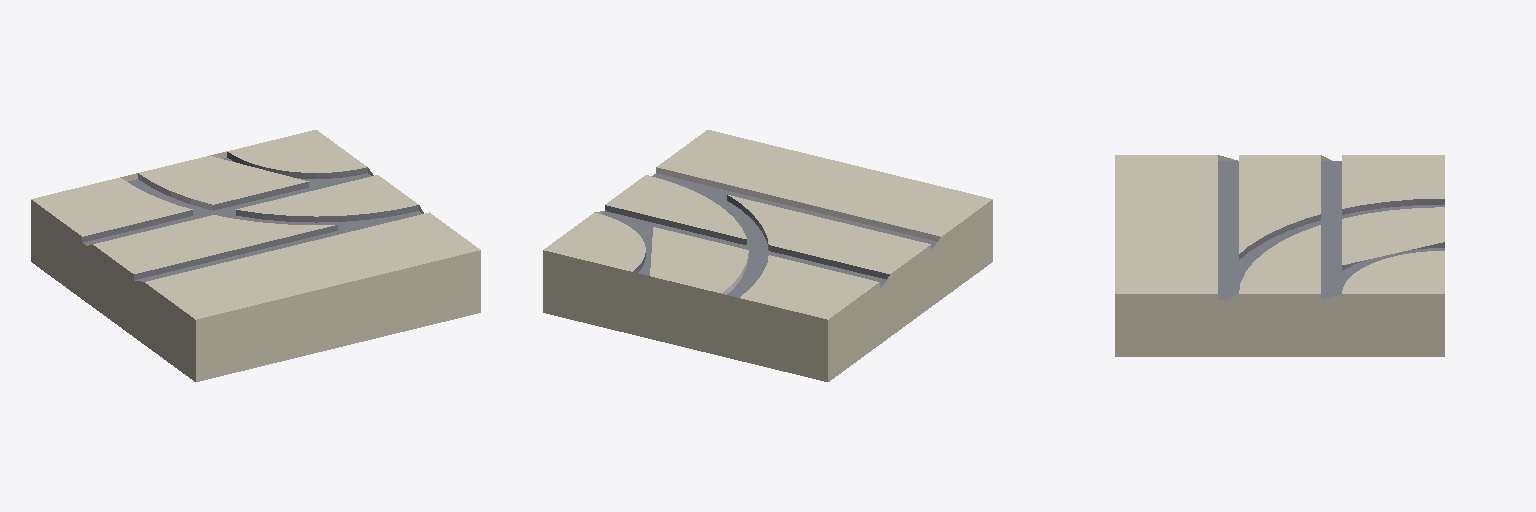
The model's file is roadTile_093.obj.
3 renders of one model, left to right at view 1: azimuth 30°, elevation 25°; view 2: azimuth 150°, elevation 25°; view 3: azimuth 270°, elevation 25°, orthographic.
Parts seen in each view (by area): view 1: Mesh1 Group1 Model; view 2: Mesh1 Group1 Model; view 3: Mesh1 Group1 Model.
Part boxes in pixels (x1,y1,x2,y2): Mesh1 Group1 Model: (31, 130, 480, 381); Mesh1 Group1 Model: (543, 130, 992, 381); Mesh1 Group1 Model: (1115, 155, 1444, 356).
Bounding box in the file's own units: 3 × 0.63 × 3.